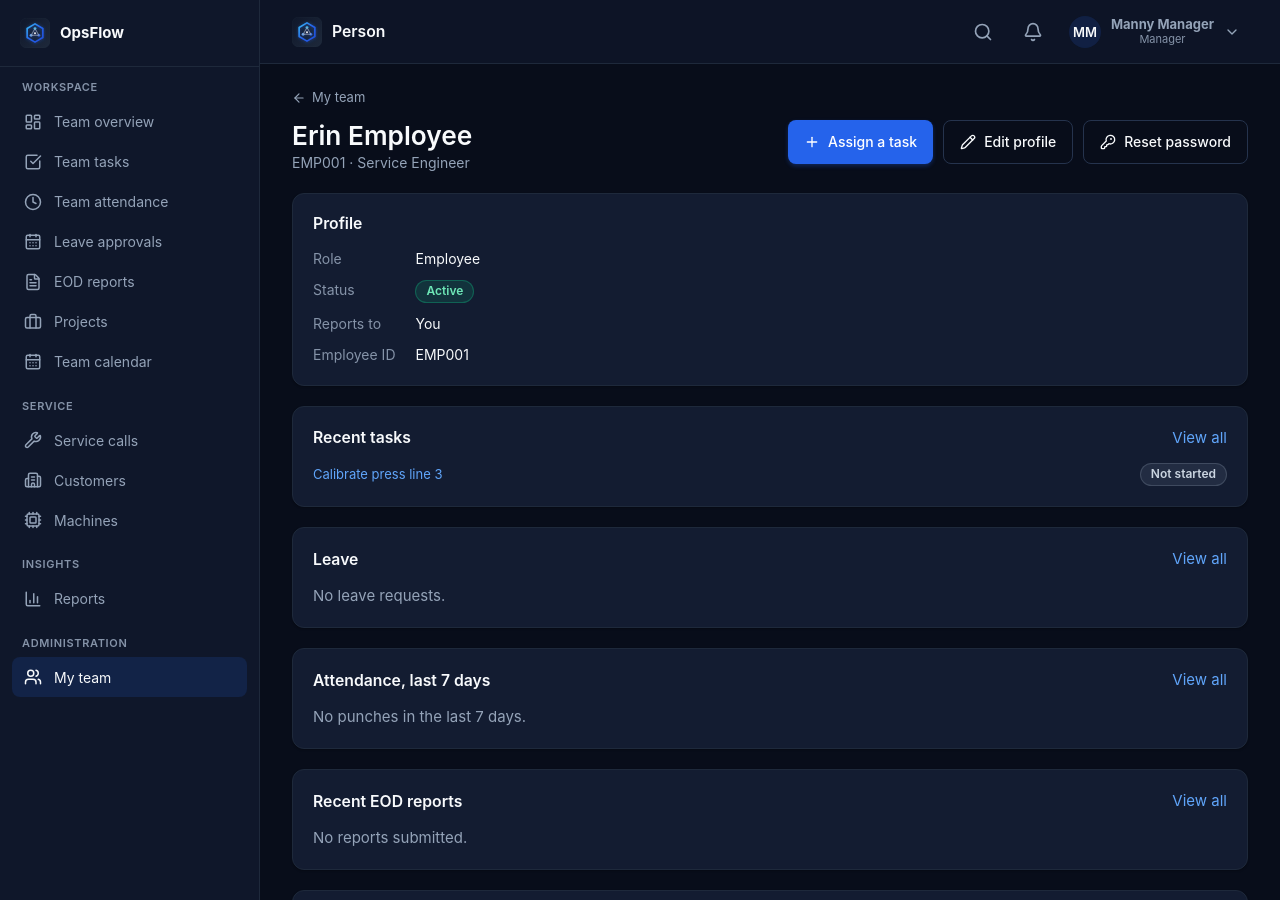
Scenario: A person in the team › resets a password: needs 8+ characters, warns about sign-out, and sends the temporary password
Click the button "Reset password": (1166, 142) [1083,120,1248,164]
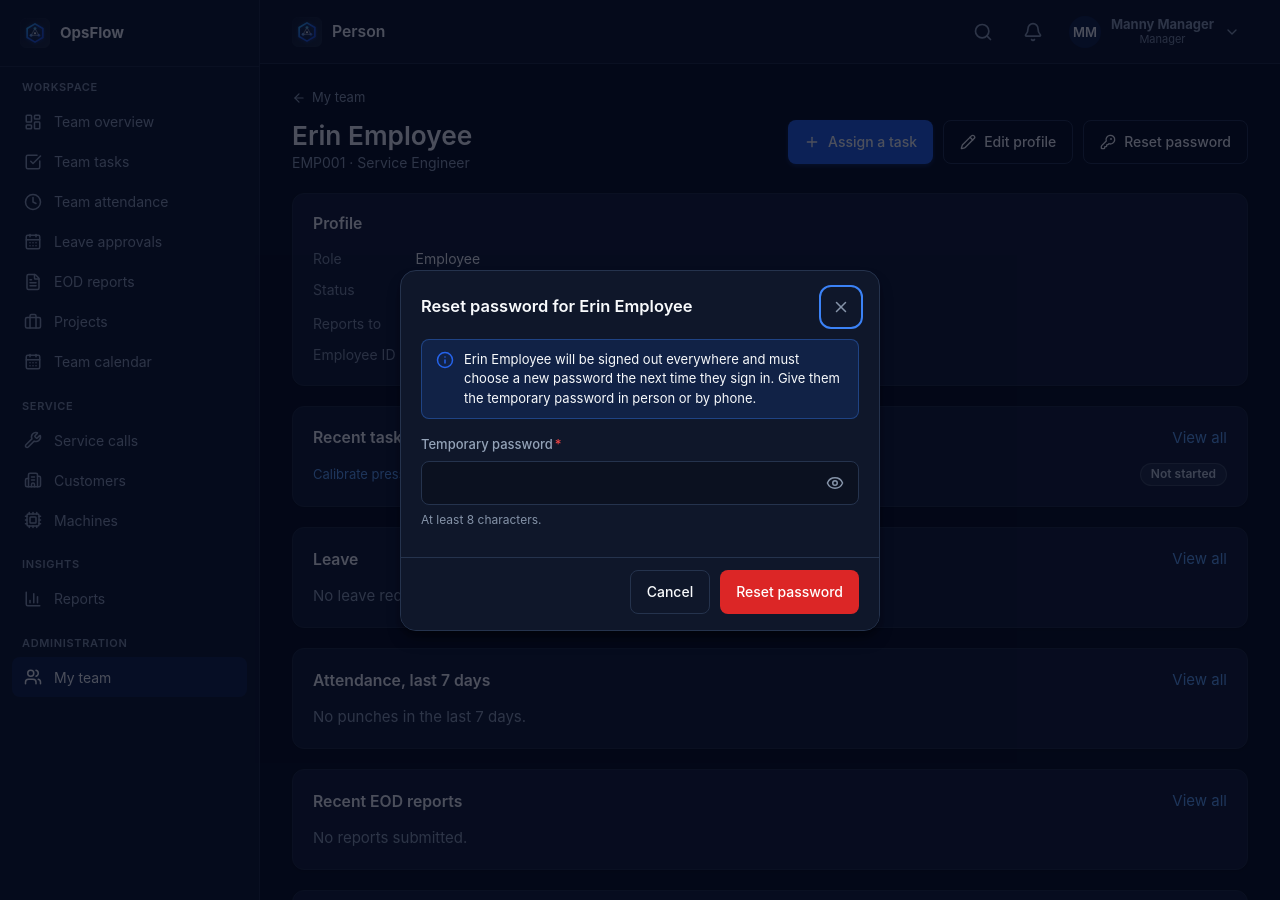
Check: the text "signed out everywhere" is shown, box [464,350,840,406]
In the password field labelled "Temporary password*": (640, 482) [421,460,859,504], type "short"
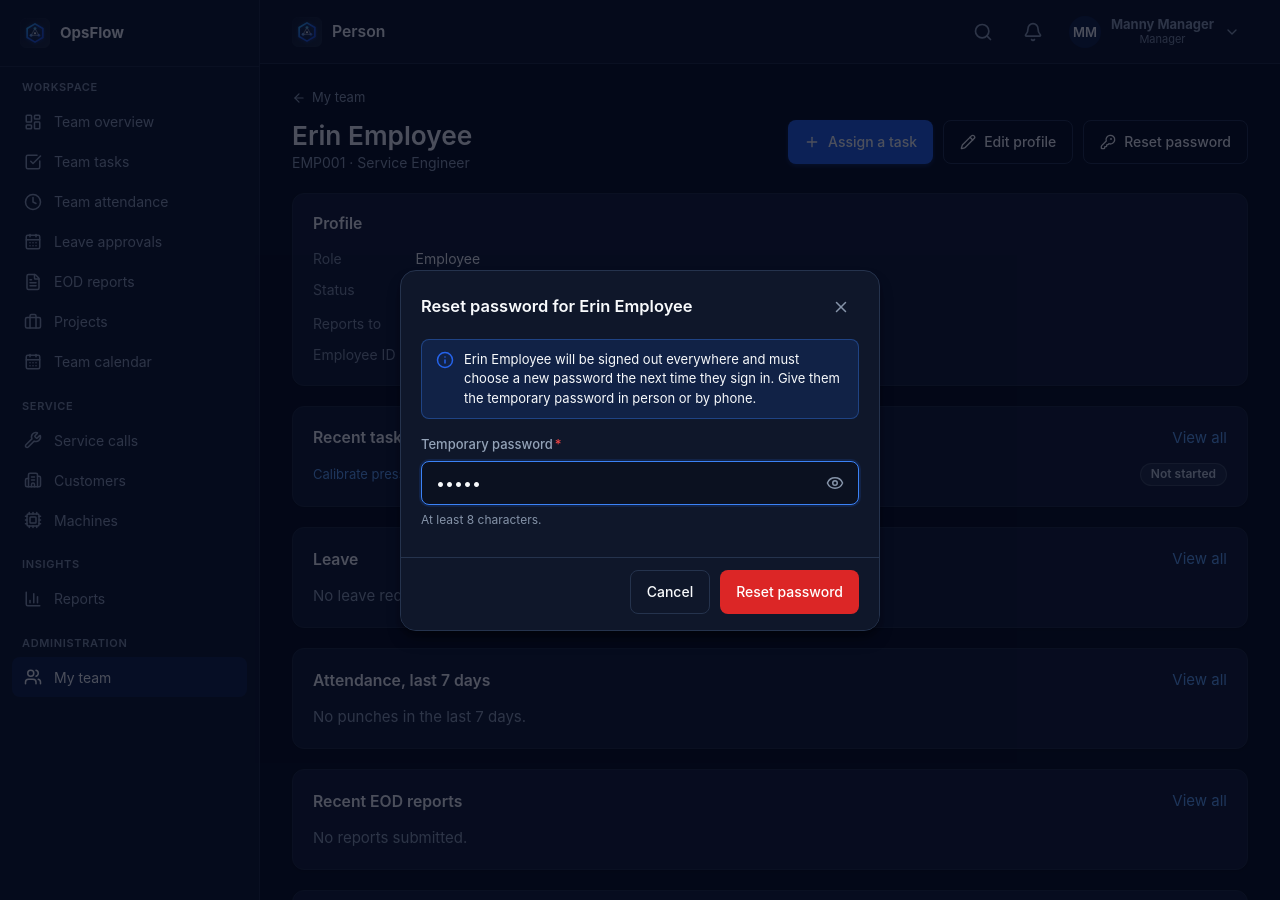
Click the button "Reset password": (790, 592) [720,570,859,614]
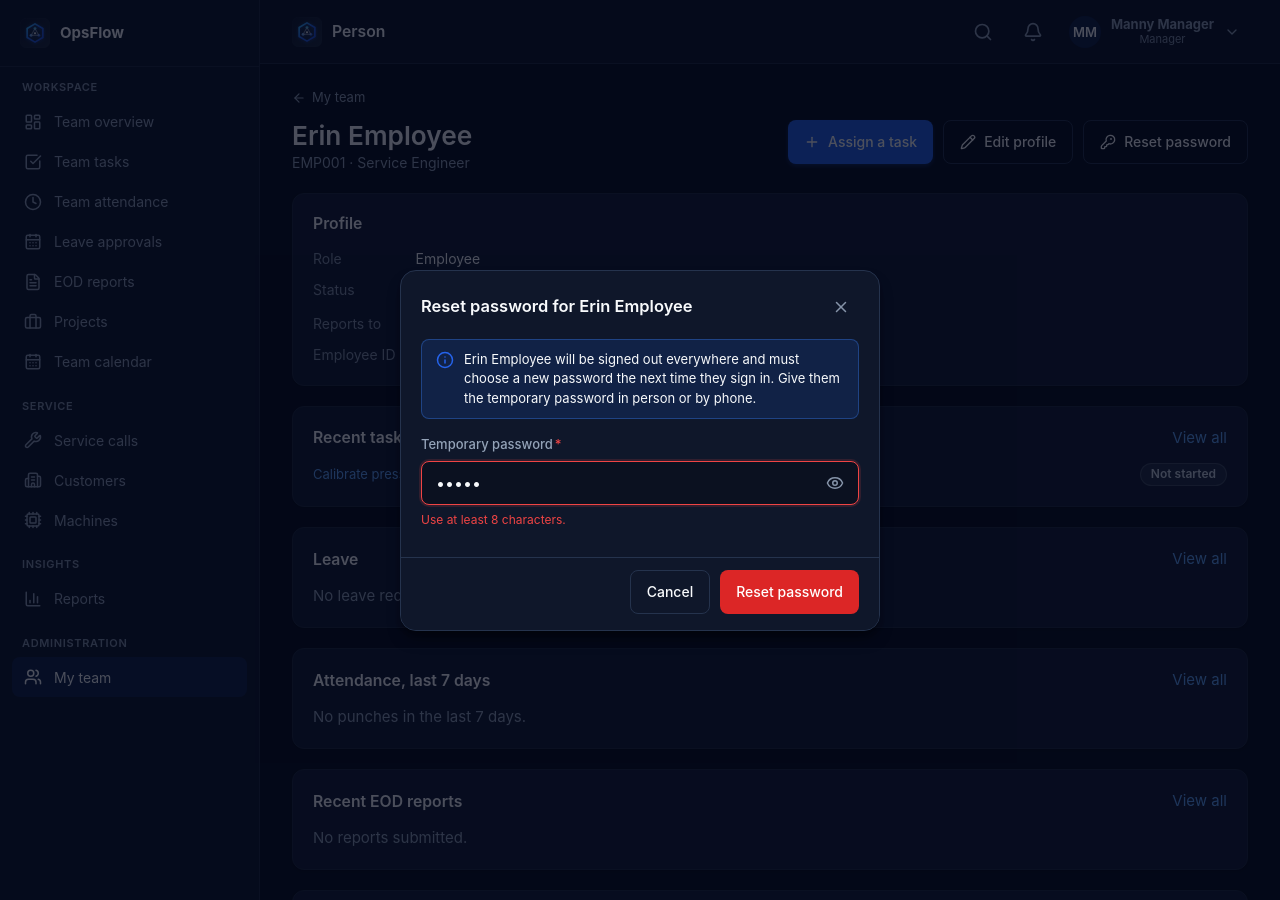
Check: the text "Use at least 8 characters." is shown, box [421,512,566,526]
In the password field labelled "Temporary password*": (640, 482) [421,460,859,504], type "Temp#2026pass"
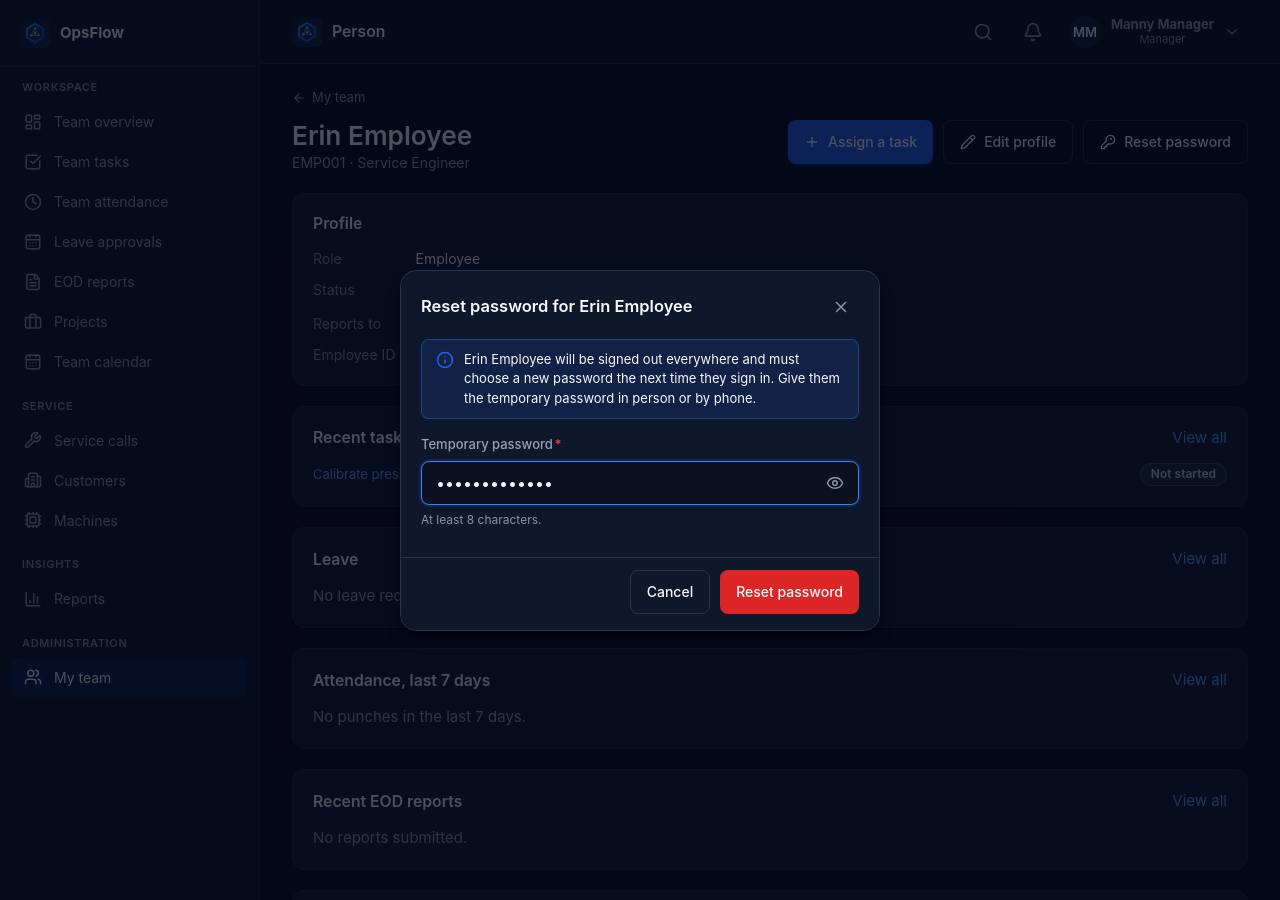
Click the button "Reset password": (790, 592) [720,570,859,614]
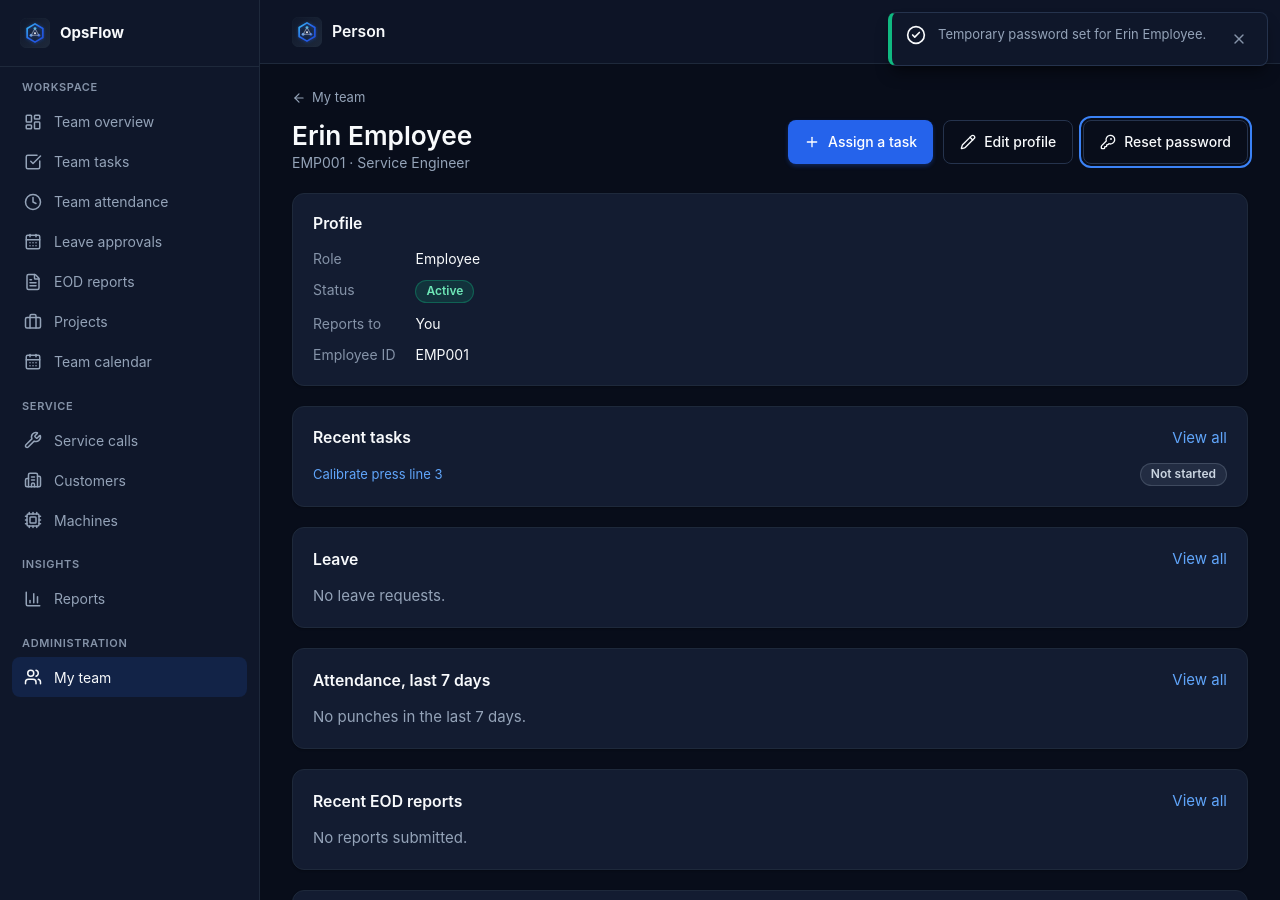
Check: the text "Temporary password set for Erin Employee." is shown, box [938,25,1213,44]
